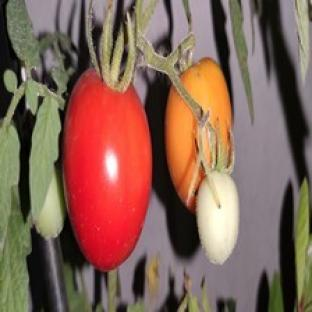Tomato: (63, 70, 151, 270), (165, 87, 204, 211), (197, 172, 239, 264), (35, 165, 65, 238)
